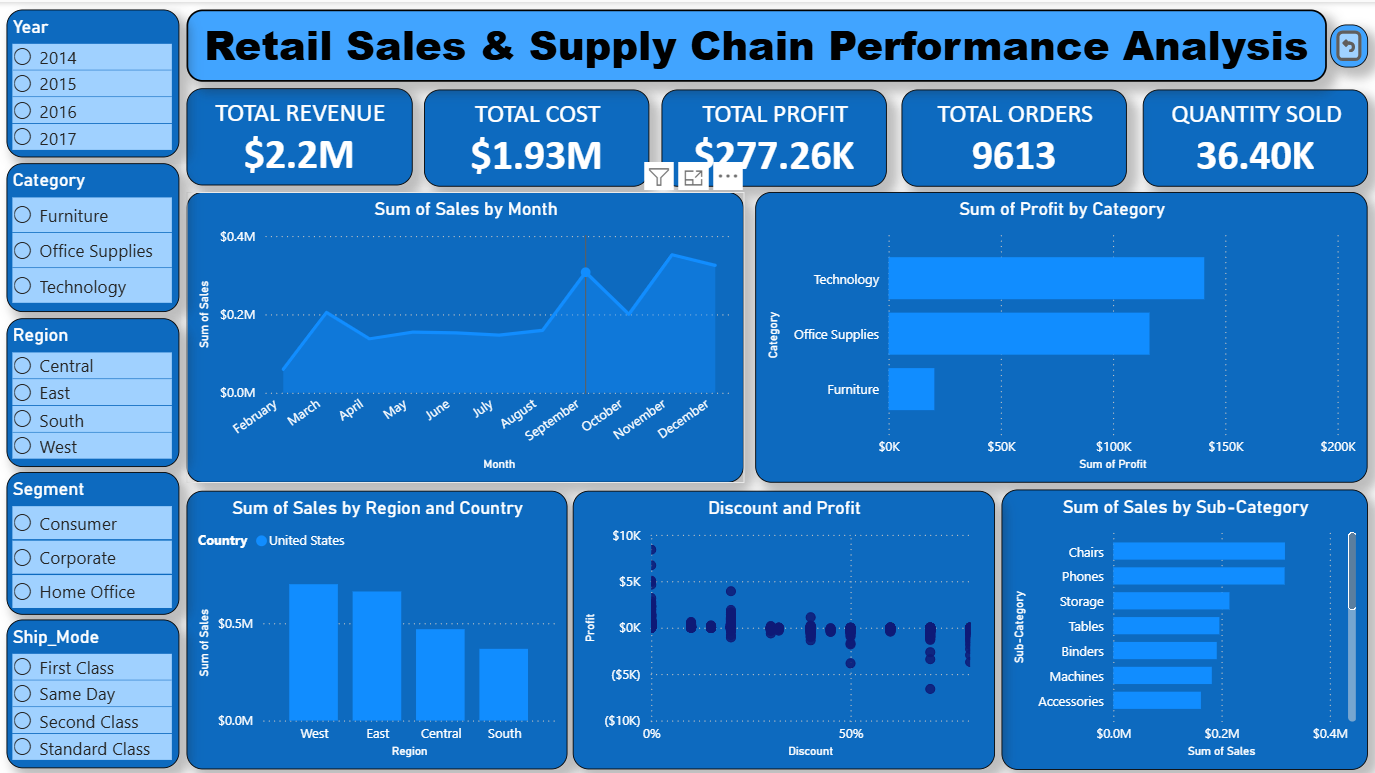

What the dashboard file says about the page in this screenshot:
{"tool":"powerbi","page":{"name":"Page 1","canvas":[1280,720],"ordinal":0},"visuals":[{"type":"card","title":"TOTAL REVENUE ","fields":{"Values":["Sum(Cleaned_data.Sales)"]},"box":[174.3,80,210,90.6],"z":0},{"type":"card","title":"TOTAL COST","fields":{"Values":["Sum(Cleaned_data.Product Cost)"]},"box":[395.2,81,209.9,90.6],"z":1000},{"type":"card","title":"QUANTITY SOLD","fields":{"Values":["select","Sum(Cleaned_data.Quantity)"]},"box":[1063.5,81,209.9,90.6],"z":2000},{"type":"card","title":"TOTAL ORDERS","fields":{"Values":["CountNonNull(Cleaned_data.Order_ID)"]},"box":[839.8,81,209.9,90.6],"z":3000},{"type":"card","title":"TOTAL PROFIT","fields":{"Values":["Sum(Cleaned_data.Profit)"]},"box":[616.1,81,209.9,90.6],"z":4000},{"type":"textbox","box":[174.9,7.3,1061,67.3],"z":5000},{"type":"lineChart","fields":{"Y":["Sum(Cleaned_data.Sales)"],"Category":["Cleaned_data.Order_Date.Variation.Date Hierarchy.Month"]},"box":[174.3,177,518.7,270.3],"z":6000},{"type":"barChart","fields":{"Category":["Cleaned_data.Category"],"Y":["Sum(Cleaned_data.Profit)"]},"box":[703.9,177,569.5,270.3],"z":7000},{"type":"columnChart","fields":{"Y":["Sum(Cleaned_data.Sales)"],"Category":["Cleaned_data.Region"],"Series":["Cleaned_data.Country"]},"box":[174.3,454.2,354,259.3],"z":8000},{"type":"clusteredBarChart","fields":{"Category":["Cleaned_data.Sub-Category"],"Y":["Sum(Cleaned_data.Sales)"]},"box":[933,453.7,341.2,260.5],"z":9000},{"type":"scatterChart","fields":{"X":["Cleaned_data.Discount"],"Y":["Cleaned_data.Profit"]},"box":[533.8,454.2,392.5,259.3],"z":10000},{"type":"listSlicer","fields":{"Values":["Cleaned_data.Year"]},"box":[6.9,6.9,160.5,137.2],"z":11000},{"type":"listSlicer","fields":{"Values":["Cleaned_data.Category"]},"box":[6.9,149.6,160.5,138.6],"z":12000},{"type":"listSlicer","fields":{"Values":["Cleaned_data.Region"]},"box":[6.9,293.7,160.5,138.6],"z":13000},{"type":"listSlicer","fields":{"Values":["Cleaned_data.Segment"]},"box":[6.9,437.7,160.5,133],"z":14000},{"type":"listSlicer","fields":{"Values":["Cleaned_data.Ship_Mode"]},"box":[6.9,575,160.5,138.6],"z":15000},{"type":"actionButton","box":[1238.7,20.8,35.5,40.4],"z":16000}]}

Visuals, with their boxes in screenshot pixels (x1, y1, x2, y2), scaled from the page's 1280x720 canvas onto the 1375x773 screenshot:
"TOTAL REVENUE " card: pyautogui.locateOnScreen(187, 86, 413, 183)
"TOTAL COST" card: pyautogui.locateOnScreen(425, 87, 650, 184)
"QUANTITY SOLD" card: pyautogui.locateOnScreen(1142, 87, 1368, 184)
"TOTAL ORDERS" card: pyautogui.locateOnScreen(902, 87, 1128, 184)
"TOTAL PROFIT" card: pyautogui.locateOnScreen(662, 87, 887, 184)
textbox: pyautogui.locateOnScreen(188, 8, 1328, 80)
lineChart - Sum(Cleaned_data.Sales) x Cleaned_data.Order_Date.Variation.Date Hierarchy.Month: pyautogui.locateOnScreen(187, 190, 744, 480)
barChart - Cleaned_data.Category x Sum(Cleaned_data.Profit): pyautogui.locateOnScreen(756, 190, 1368, 480)
columnChart - Sum(Cleaned_data.Sales) x Cleaned_data.Region: pyautogui.locateOnScreen(187, 488, 568, 766)
clusteredBarChart - Cleaned_data.Sub-Category x Sum(Cleaned_data.Sales): pyautogui.locateOnScreen(1002, 487, 1369, 767)
scatterChart - Cleaned_data.Discount x Cleaned_data.Profit: pyautogui.locateOnScreen(573, 488, 995, 766)
listSlicer - Cleaned_data.Year: pyautogui.locateOnScreen(7, 7, 180, 155)
listSlicer - Cleaned_data.Category: pyautogui.locateOnScreen(7, 161, 180, 309)
listSlicer - Cleaned_data.Region: pyautogui.locateOnScreen(7, 315, 180, 464)
listSlicer - Cleaned_data.Segment: pyautogui.locateOnScreen(7, 470, 180, 613)
listSlicer - Cleaned_data.Ship_Mode: pyautogui.locateOnScreen(7, 617, 180, 766)
actionButton: pyautogui.locateOnScreen(1331, 22, 1369, 66)
